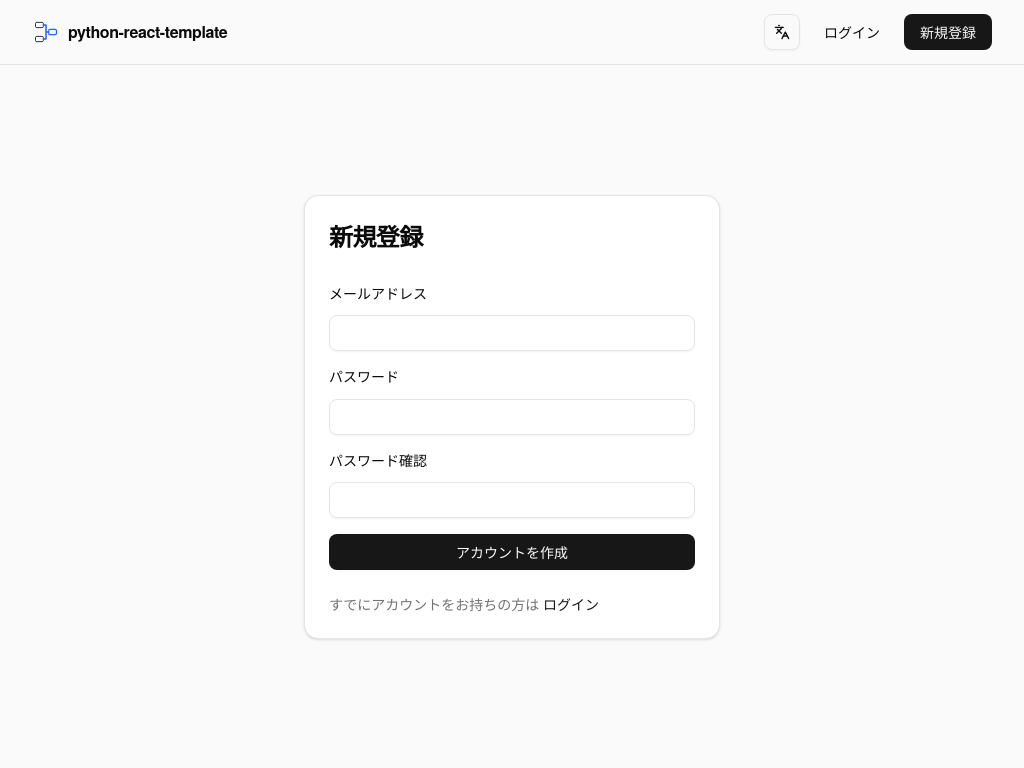
VALIDATION_ERROR は入力確認メッセージを表示する
Step 1. Type "user@example.com" into the field labelled "メールアドレス" → (512, 333), box [329,315,695,351]
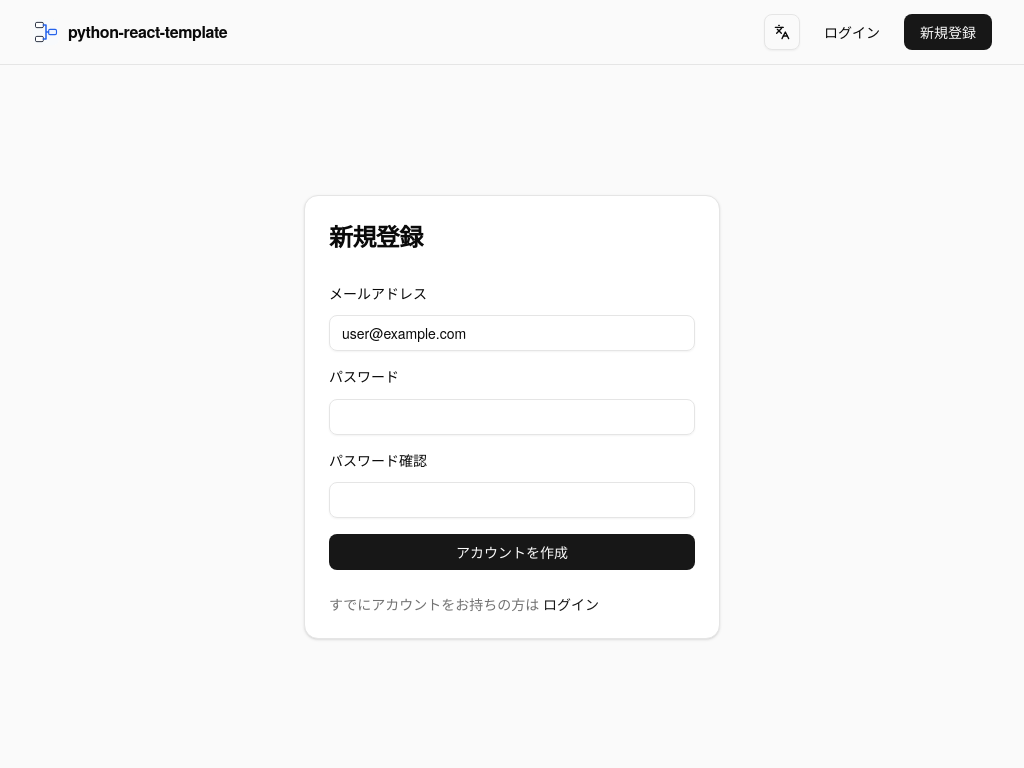
Step 2. Type "Password123!" into the password field labelled "パスワード" → (512, 417), box [329,399,695,435]
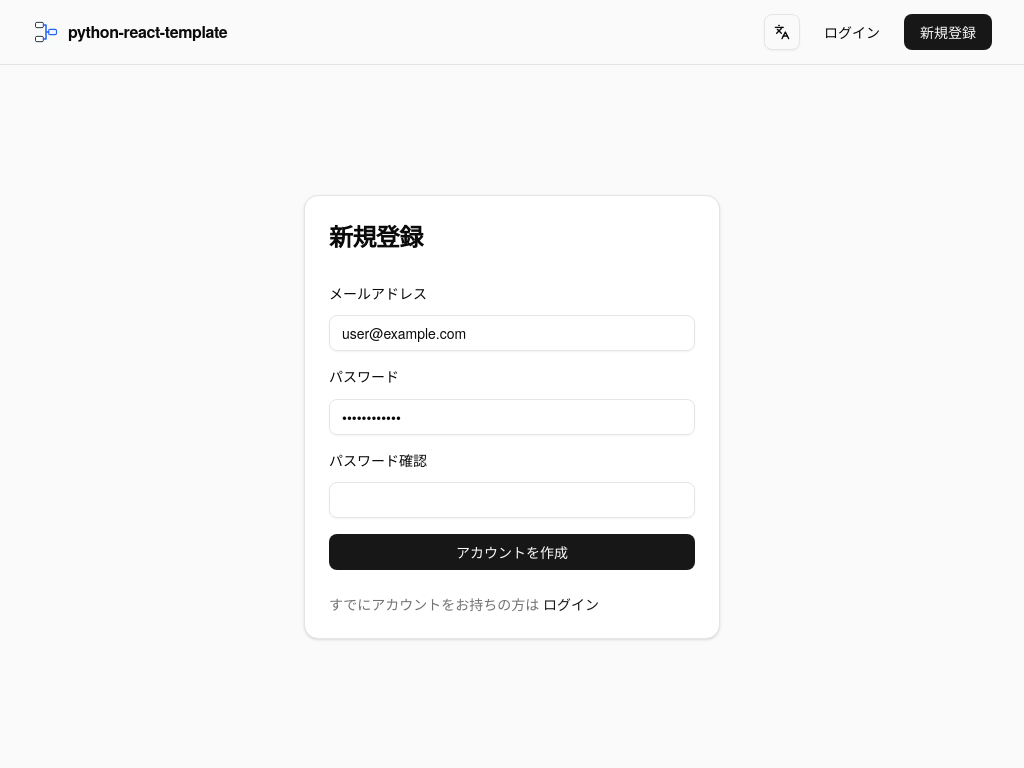
Step 3. Type "Password123!" into the password field labelled "パスワード確認" → (512, 500), box [329,482,695,518]
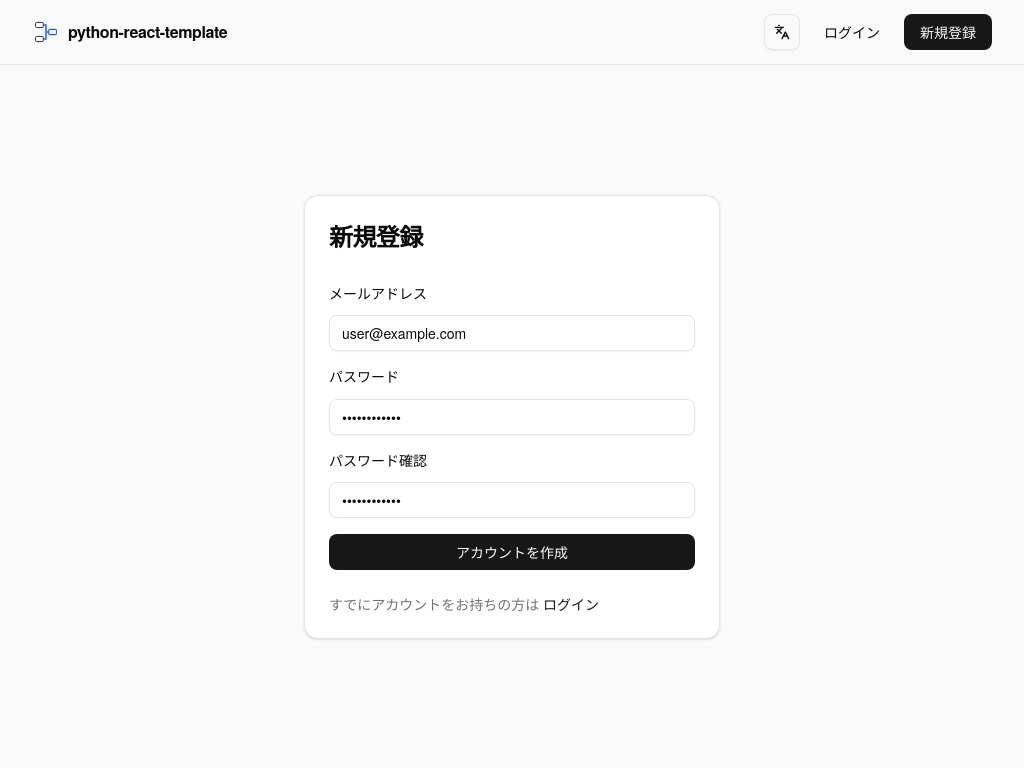
Step 4. Click the button "アカウントを作成" → click(512, 552), box [329,534,695,570]
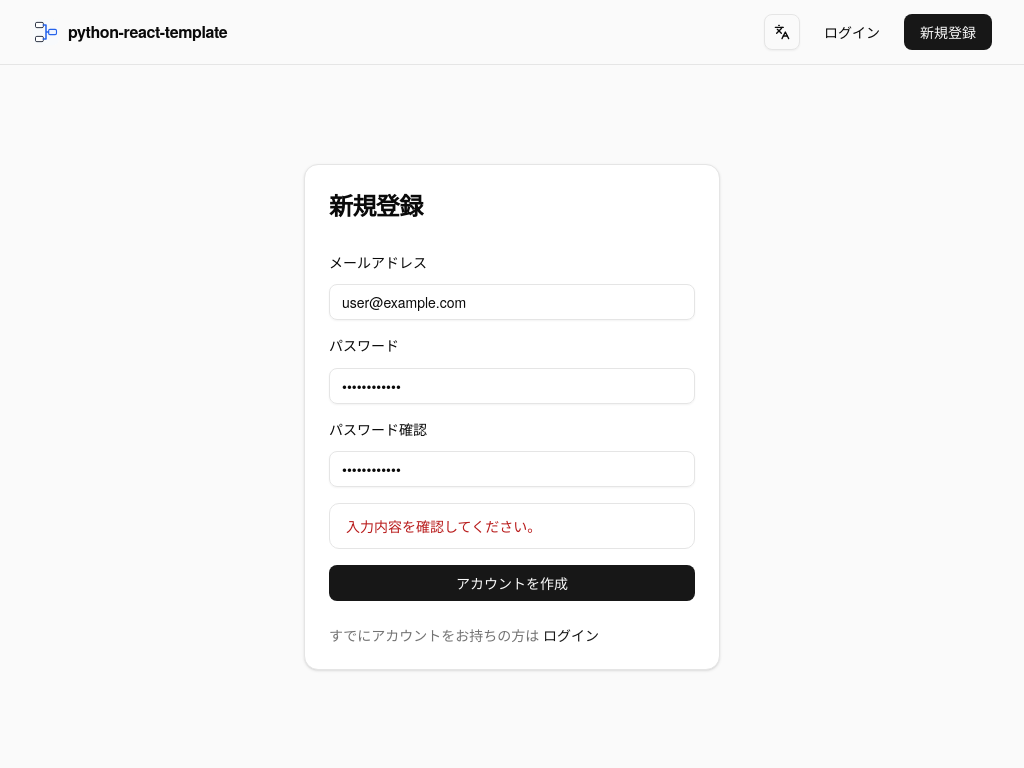
Now the message reads "入力内容を確認してください。", box [346,516,541,536]
